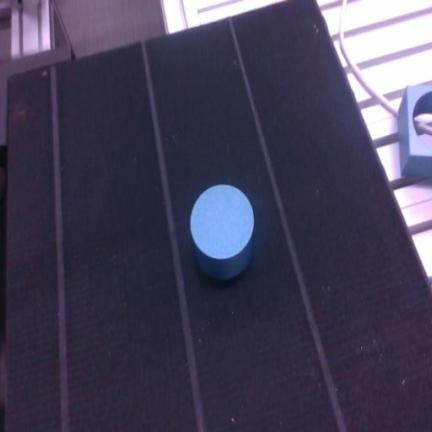cylinder: (190, 184, 254, 280)
